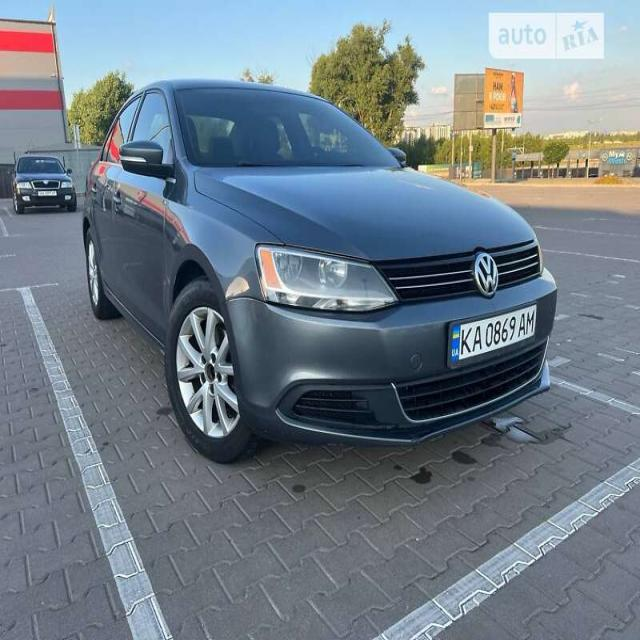plate: (451, 304, 540, 359)
